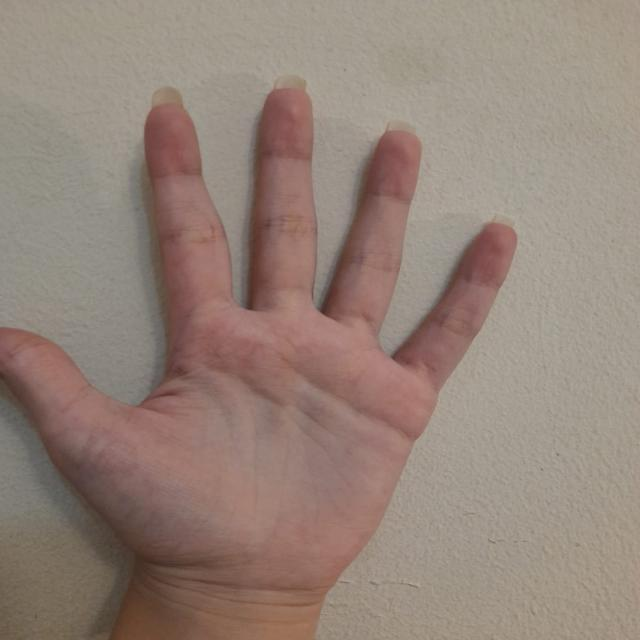Open Hand: (3, 86, 518, 593)
